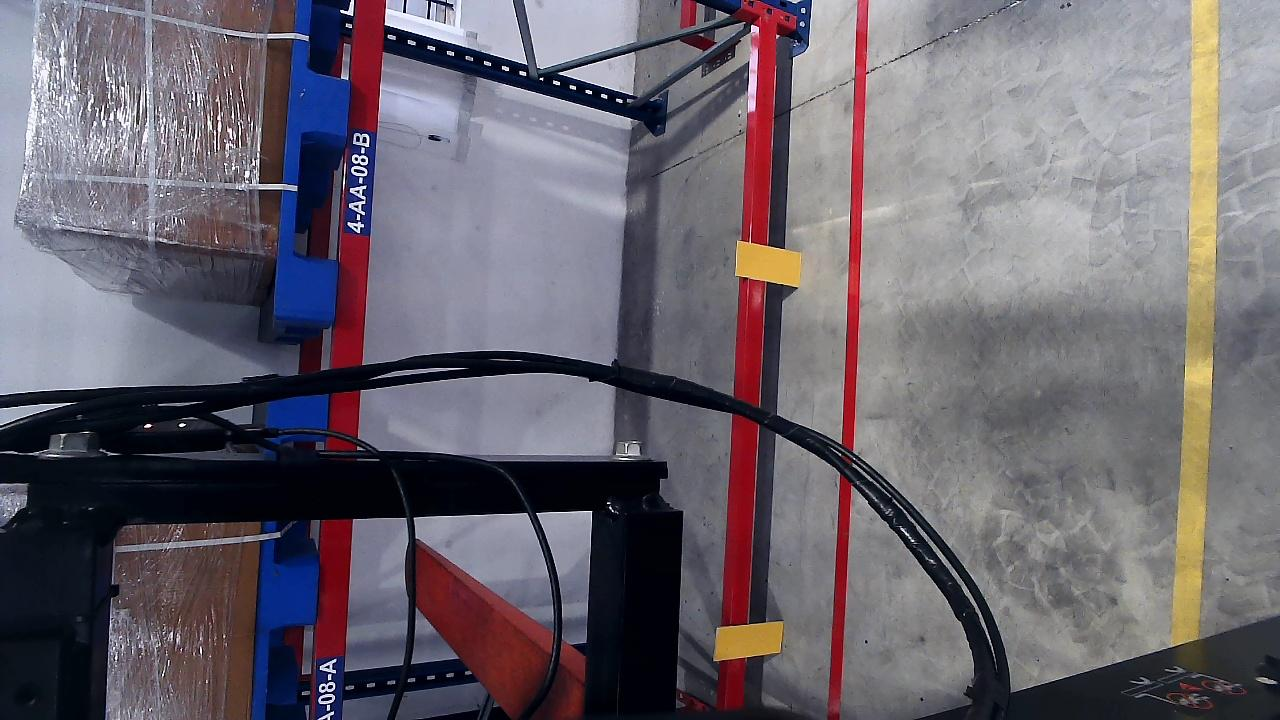h_rack: (311, 0, 386, 720), (723, 15, 780, 712)
orange_strip: (735, 241, 801, 287), (715, 621, 783, 661)
red_line: (824, 0, 873, 718)
small_pallet: (253, 386, 330, 720), (282, 2, 355, 315)
yellow_line: (1167, 0, 1219, 649)
